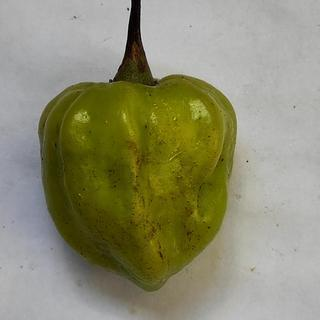Fly-bites: (152, 248, 171, 264), (99, 164, 119, 177), (77, 183, 93, 196), (182, 228, 197, 241), (50, 138, 60, 156), (203, 221, 214, 234), (142, 118, 151, 133), (109, 180, 120, 192), (219, 153, 226, 165)
